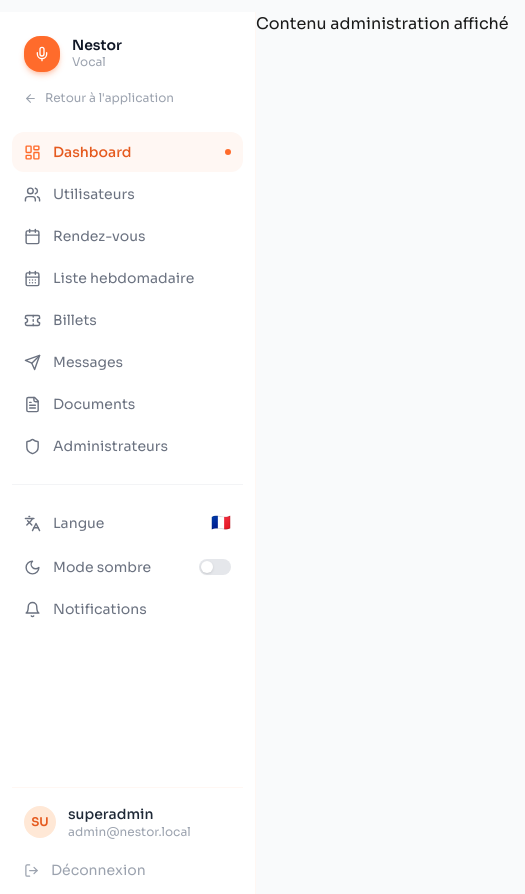
Test: AdminLayout › ouvre le panneau de notifications vide
The width and height of the screenshot is (525, 894).
Click the button "Notifications" at (128, 609), box [12, 589, 243, 629]
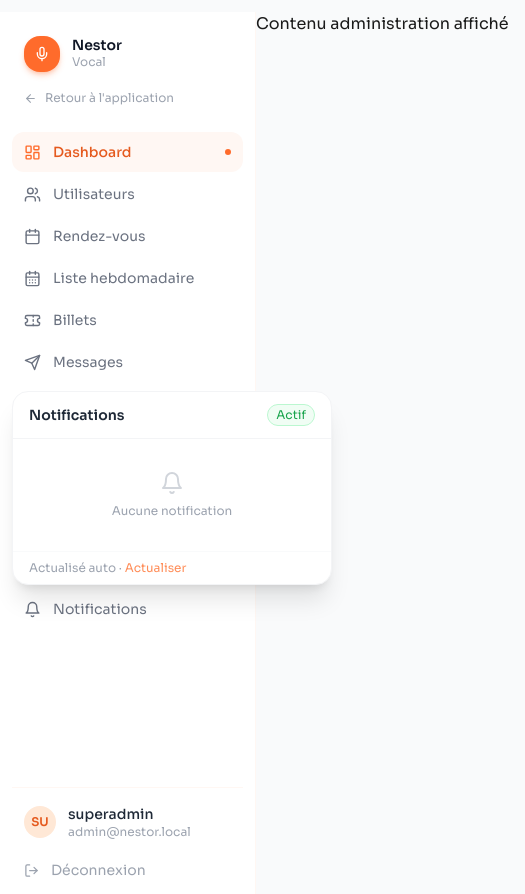
Expected: the text "Aucune notification" is shown, [112, 503, 232, 518]
